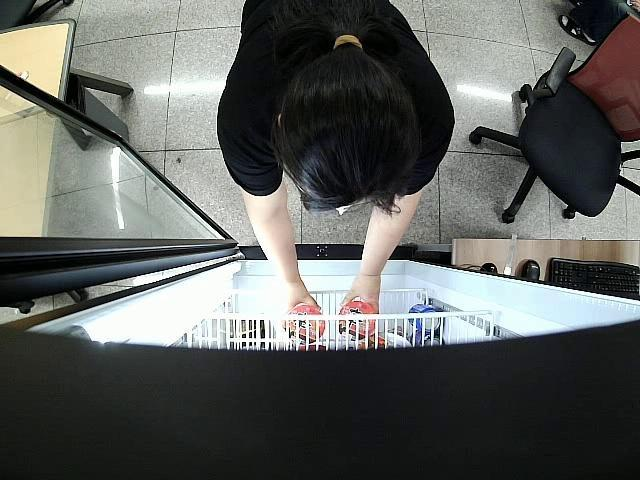02_shinRamen_S: (286, 304, 326, 344), (338, 301, 378, 340)
